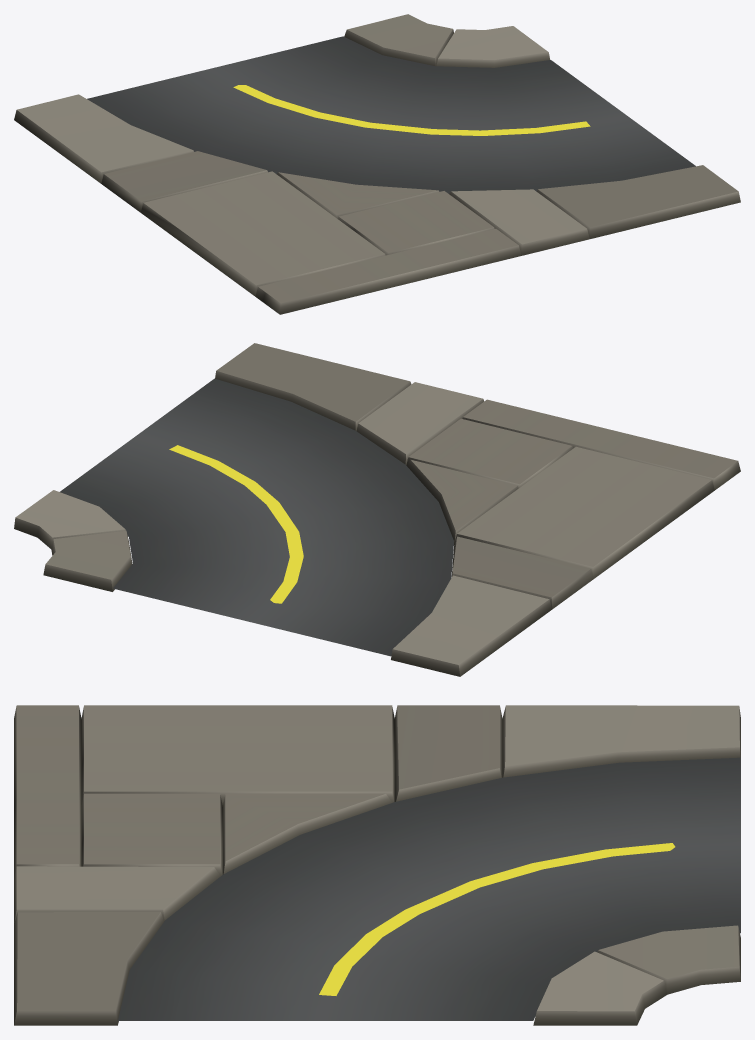
The model's file is Road_3Y.fbx.
3 renders of one model, top to bottom at view 1: azimuth 30°, elevation 25°; view 2: azimuth 150°, elevation 25°; view 3: azimuth 270°, elevation 25°, orthographic. The views are drawn at different scales.
Visible parts, largest first — view 1: Road_3Y; view 2: Road_3Y; view 3: Road_3Y.
Boxes of the visible parts, left/top/right/bottom form: Road_3Y: left=14, top=14, right=740, bottom=314; Road_3Y: left=14, top=343, right=740, bottom=676; Road_3Y: left=14, top=705, right=740, bottom=1025.
Size of the model in its own units: 1400 by 30 by 1400.
